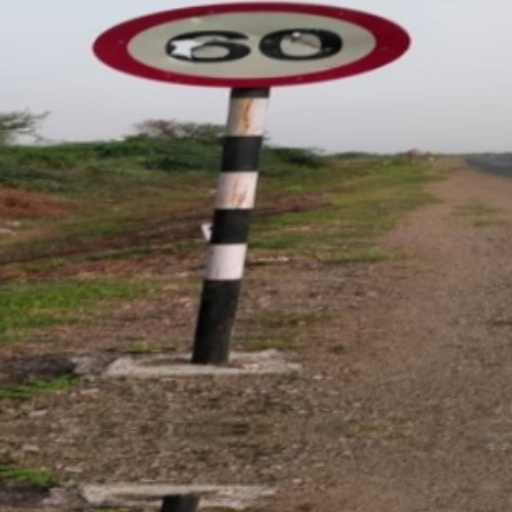Speed limit: (105, 9, 420, 105)
